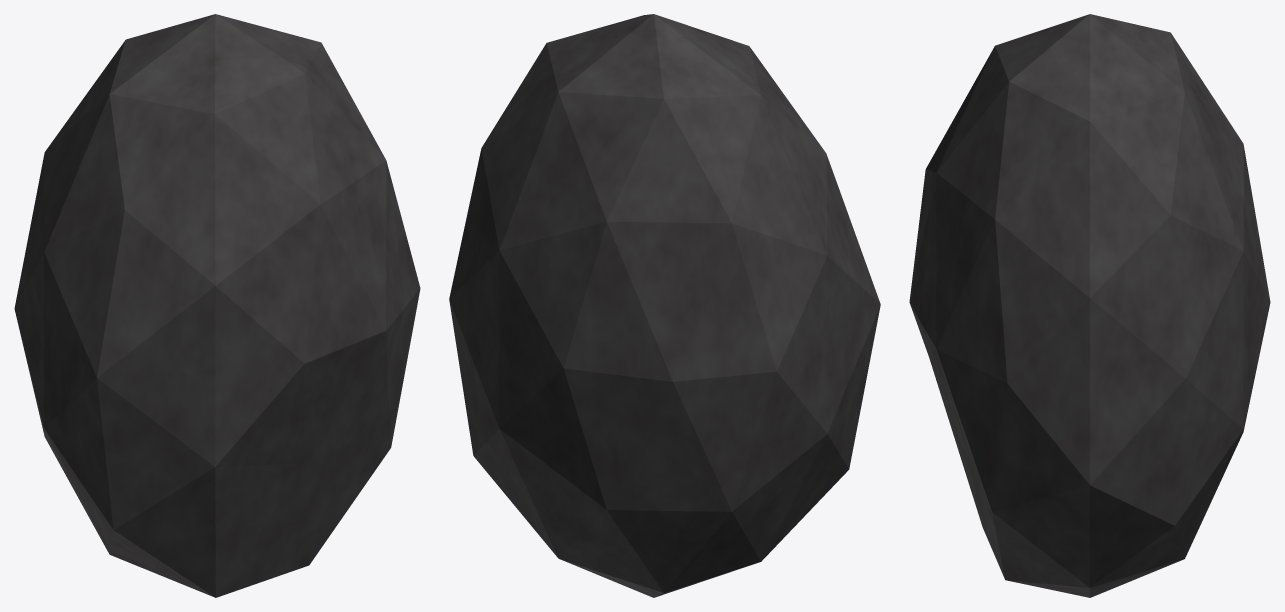
Rendered from Rock.fbx.
3 renders of one model, left to right at view 1: azimuth 30°, elevation 25°; view 2: azimuth 150°, elevation 25°; view 3: azimuth 270°, elevation 25°, orthographic.
Parts seen in each view (by area): view 1: Icosphere; view 2: Icosphere; view 3: Icosphere.
Part boxes in pixels (x1,y1,x2,y2): Icosphere: [14, 14, 420, 597]; Icosphere: [449, 14, 880, 597]; Icosphere: [909, 14, 1270, 597].
Bounding box in the file's own units: 107 × 167 × 93.31.
Materials: 1 (1 with a texture image).
